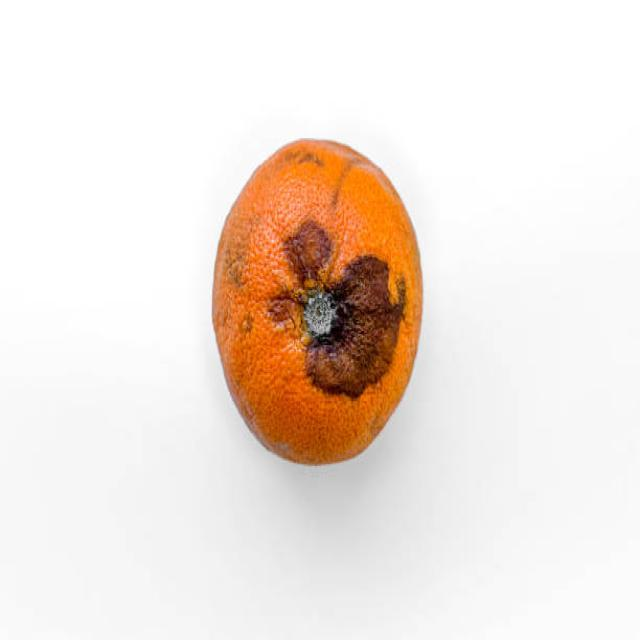overripe: (204, 136, 429, 471)
